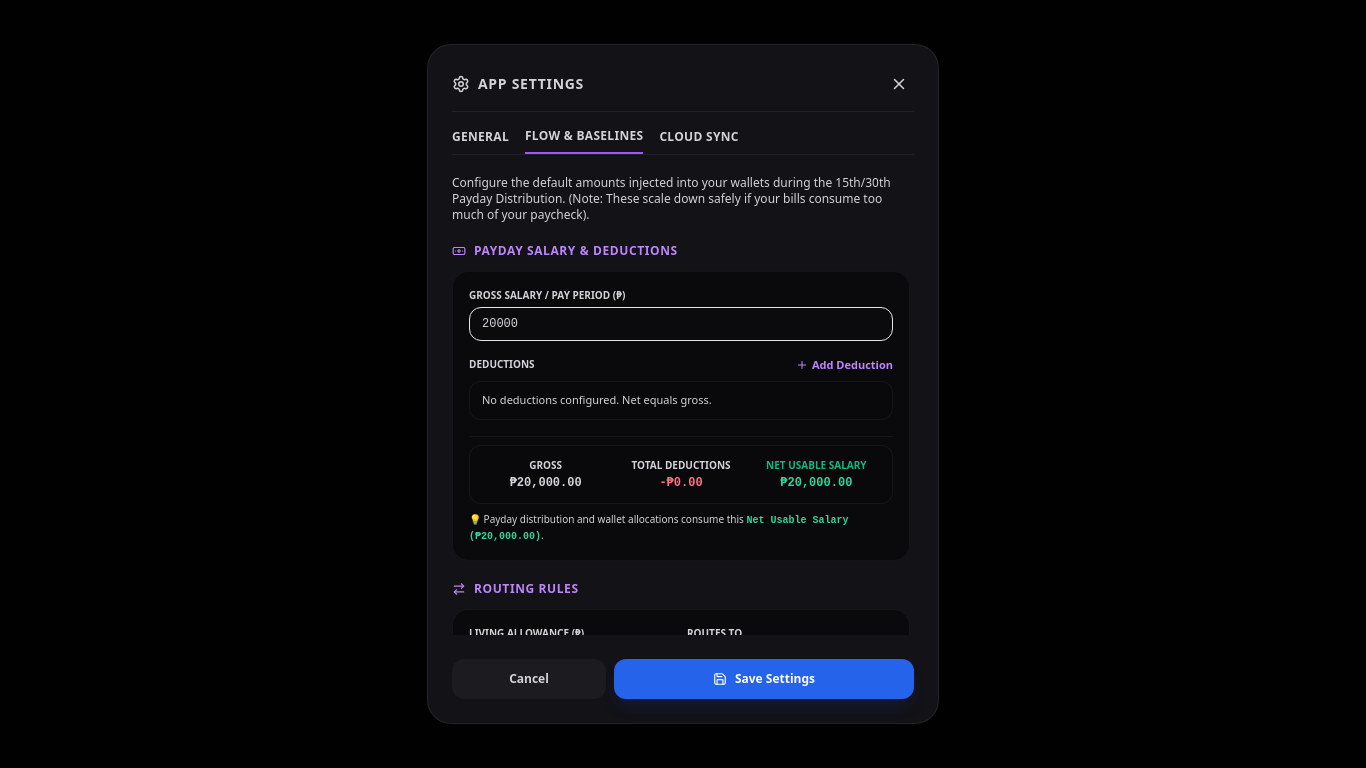
Scenario: SettingsModal - Salary Gross & Deductions › adds a percentage deduction and calculates correct deduction amount from gross
Click the button "Add Deduction": point(844, 365) [796,357,893,373]
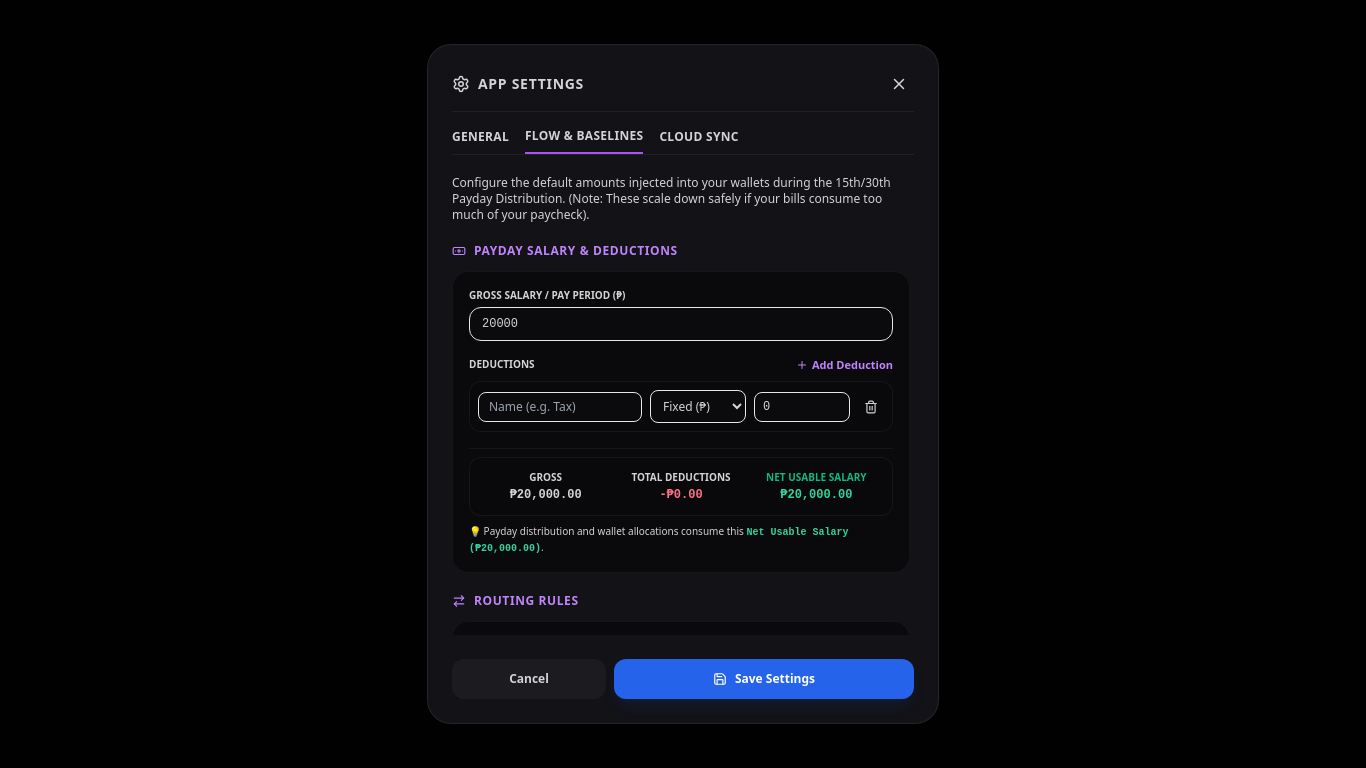
Select "Percent (%)" in the dropdown named "Deduction type": point(698, 407) [650,390,746,423]
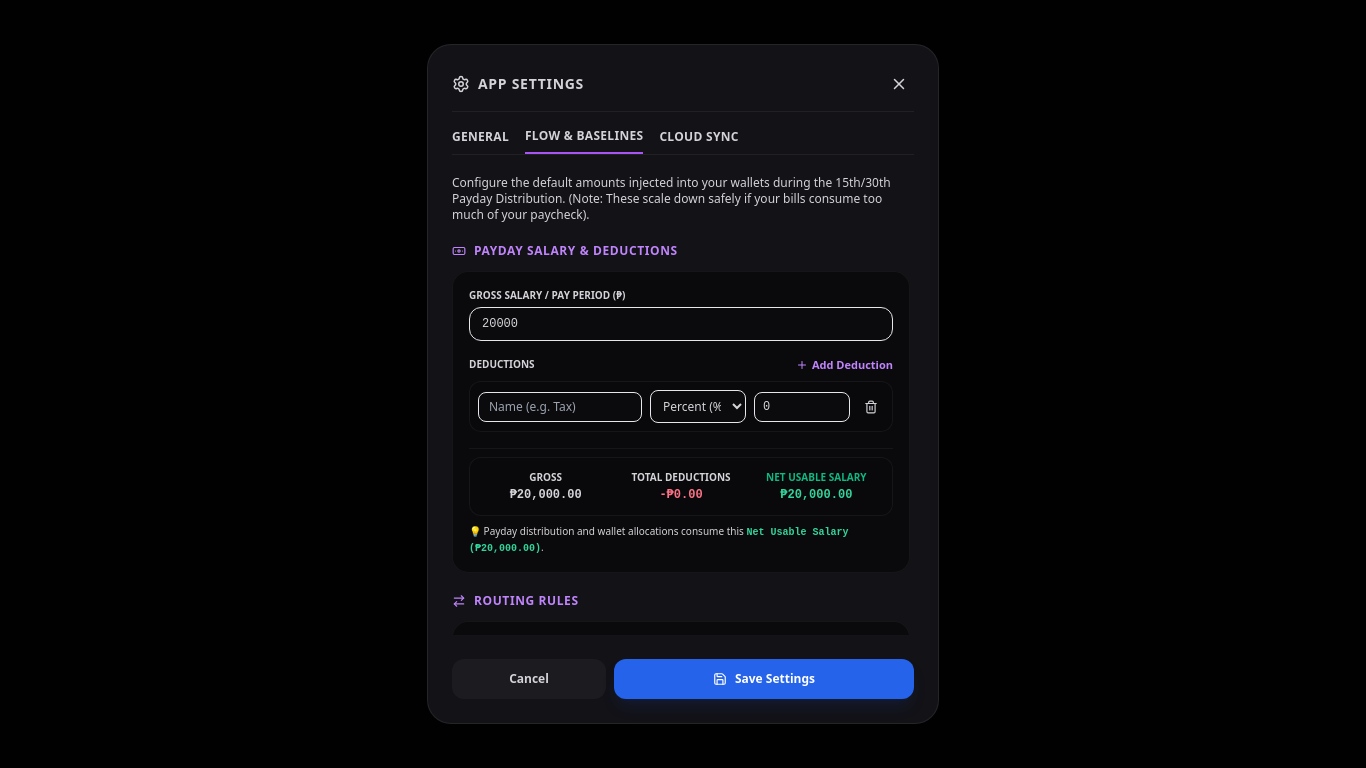
In the number field named "Deduction value": point(802, 407) [754,392,850,422], type "10"
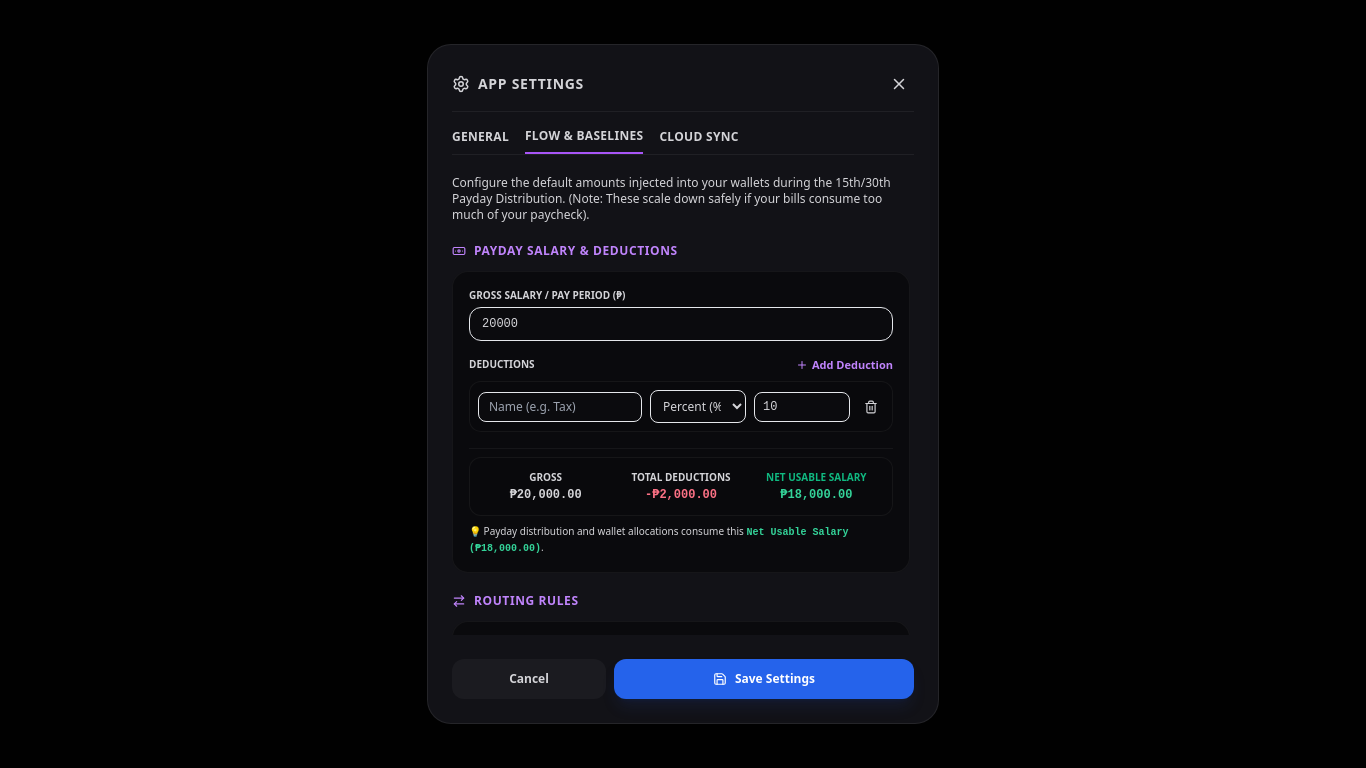
Check: the text with test id "salary-deductions-display" reads "-₱2,000.00", box [645,488,717,502]
Check: the text with test id "salary-net-display" reads "₱18,000.00", box [780,488,852,502]
